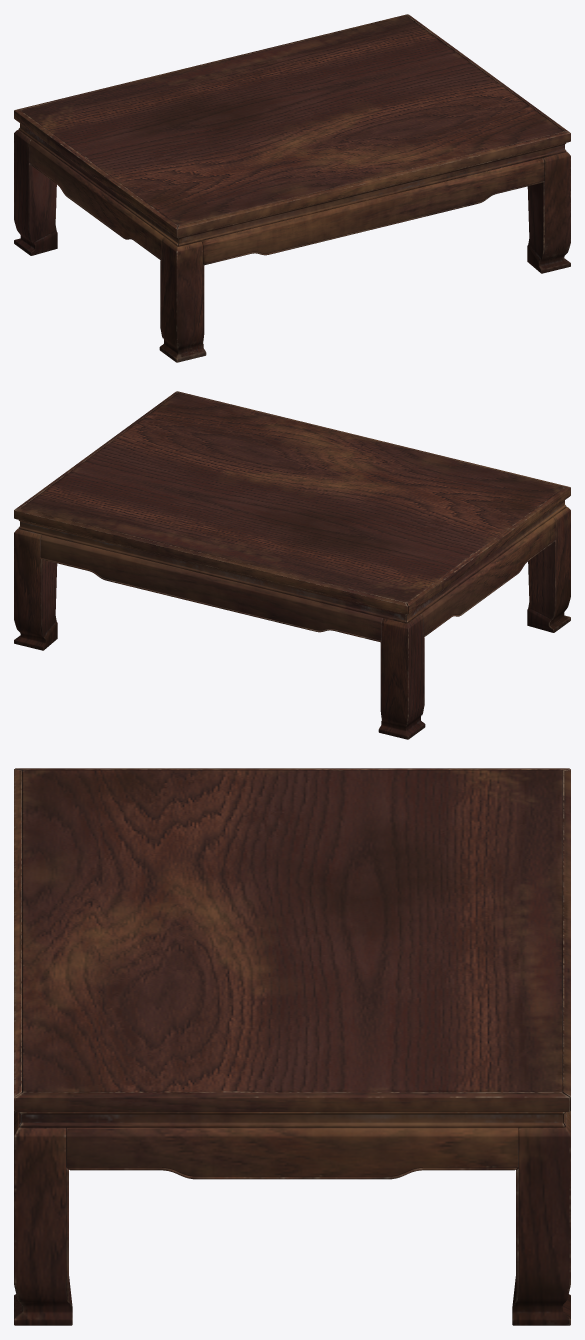
The model's file is SM_BanquetTable.fbx.
3 renders of one model, top to bottom at view 1: azimuth 30°, elevation 25°; view 2: azimuth 150°, elevation 25°; view 3: azimuth 270°, elevation 25°, orthographic. The views are drawn at different scales.
Parts seen in each view (by area): view 1: SM_BanquetTable; view 2: SM_BanquetTable; view 3: SM_BanquetTable.
Part boxes in pixels (bbox=[...]): SM_BanquetTable: bbox=[14, 14, 570, 362]; SM_BanquetTable: bbox=[14, 391, 570, 739]; SM_BanquetTable: bbox=[14, 768, 570, 1325].
Bounding box in the file's own units: 106 × 34.6 × 75.8.
1 material, 1 textured.
